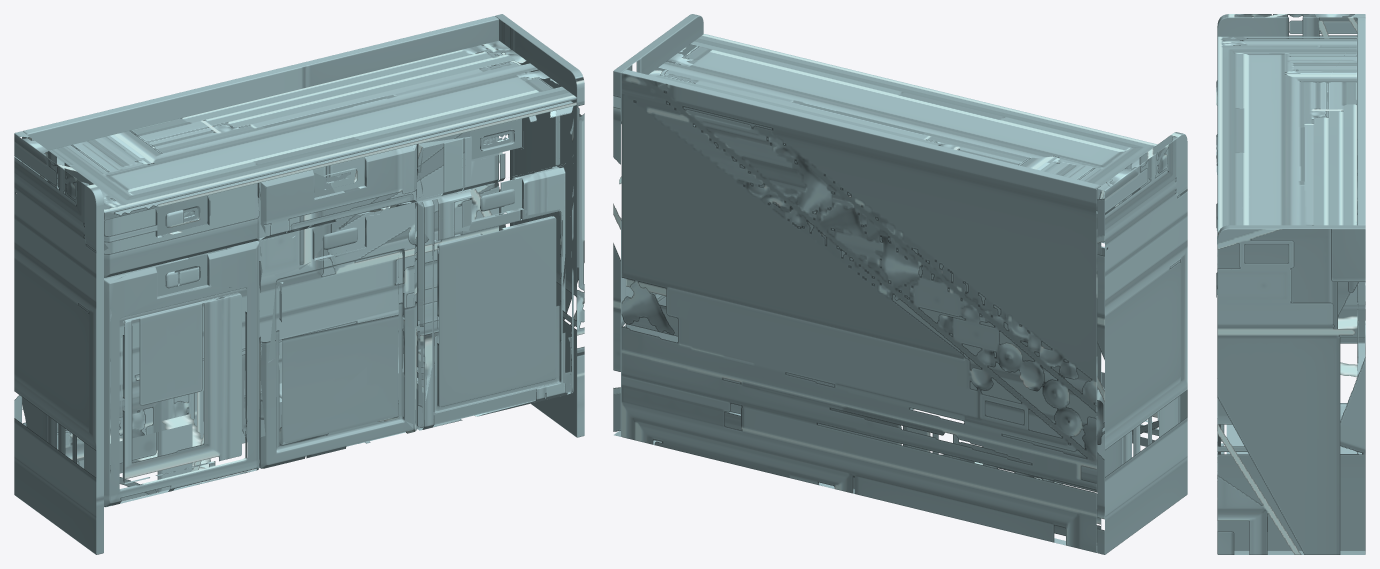
File: raw_model.obj
The picture shows the model from 3 angles, left to right: view 1: azimuth 30°, elevation 25°; view 2: azimuth 150°, elevation 25°; view 3: azimuth 270°, elevation 25°; orthographic projection. The views are drawn at different scales.
Parts seen in each view (by area): view 1: solid_001, solid_002; view 2: solid_001; view 3: solid_001.
Part boxes in pixels (box(x1,y1,x2,y2)): solid_001: box(14, 14, 584, 554); solid_002: box(104, 106, 573, 507); solid_001: box(613, 14, 1187, 554); solid_001: box(1216, 14, 1365, 554).
Bounding box in the file's own units: 1.2 × 0.85 × 0.353.
